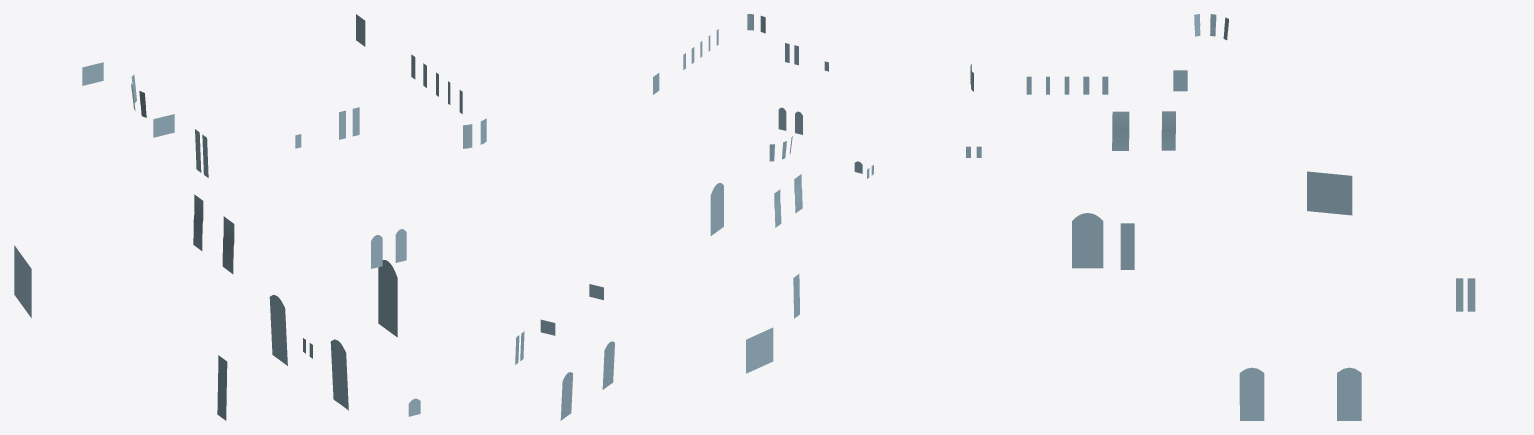
The model's file is FairyTale2.gltf.
3 views of the same model, side by side, from view 1: azimuth 30°, elevation 25°; view 2: azimuth 150°, elevation 25°; view 3: azimuth 270°, elevation 25° (orthographic). The views are drawn at different scales.
Parts seen in each view (by area): view 1: CastleMD_Glass; view 2: CastleMD_Glass; view 3: CastleMD_Glass.
Boxes of the visible parts, x1,y1,x2,y2 form: CastleMD_Glass: (14,14,486,420); CastleMD_Glass: (515,14,873,420); CastleMD_Glass: (966,14,1475,420).
Bounding box in the file's own units: 21.15 × 31.41 × 51.46.
